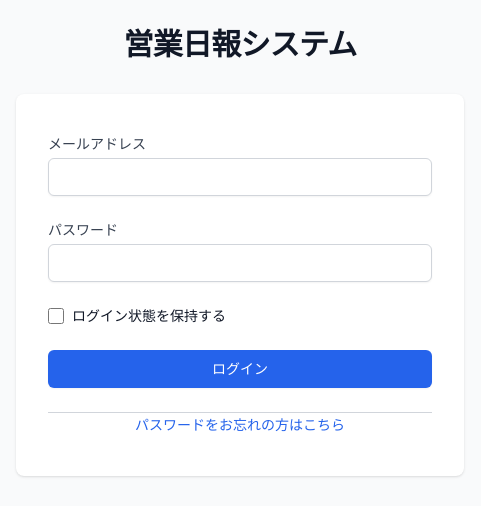
it: LoginPage › 異常系: 不正なメールアドレス形式でバリデーションエラーが表示される
Type "invalid-email" into the field labelled "メールアドレス".
click(240, 177); type("invalid-email")  # box [48,158,432,196]
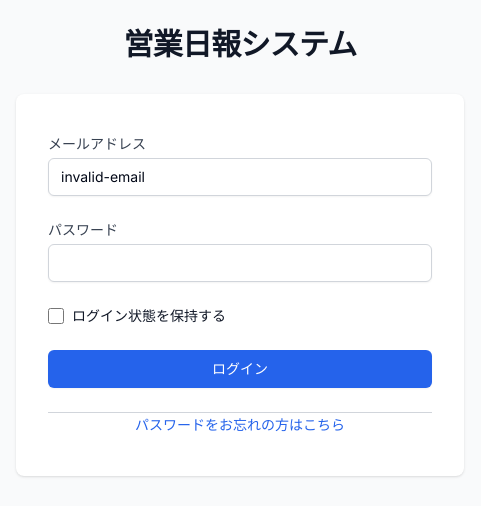
Type "password123" into the password field labelled "パスワード".
click(240, 263); type("password123")  # box [48,244,432,282]
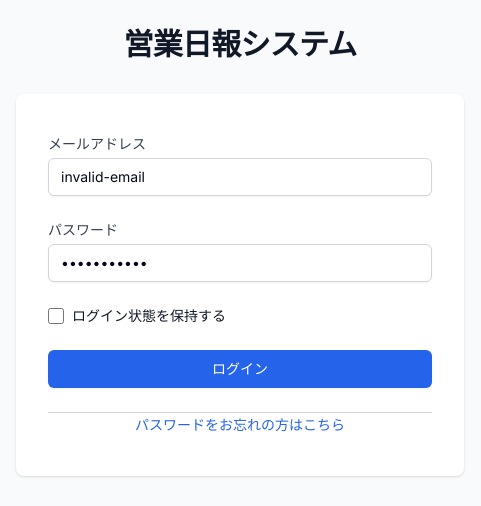
Click the button "ログイン".
click(240, 369)  # box [48,350,432,388]
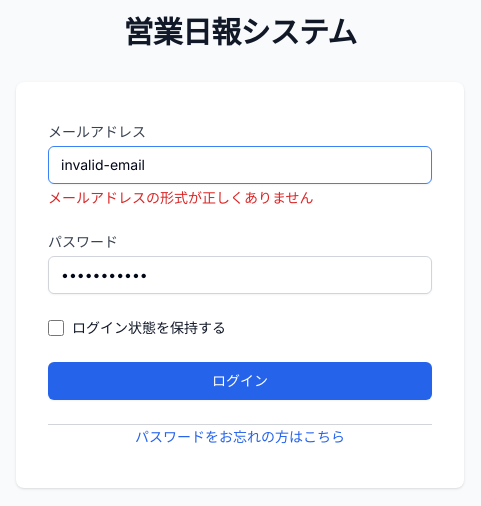
Now the text "メールアドレスの形式が正しくありません" is shown, box [48,189,314,206]
